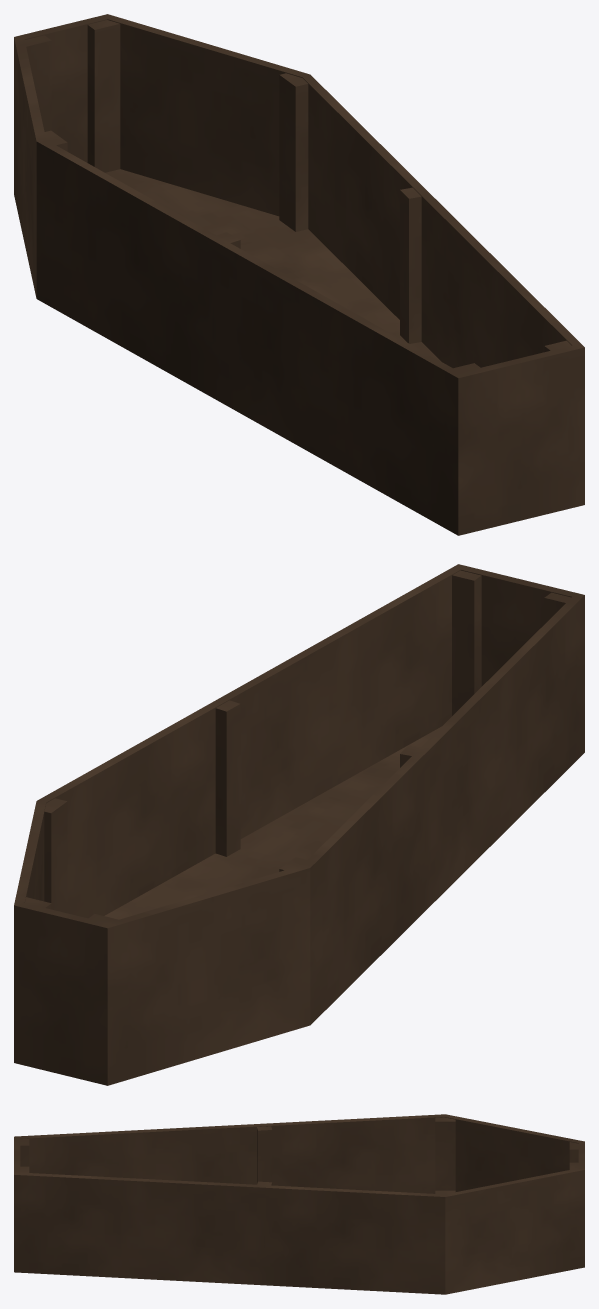
The model's file is coffin.glb.
3 renders of one model, top to bottom at view 1: azimuth 30°, elevation 25°; view 2: azimuth 150°, elevation 25°; view 3: azimuth 270°, elevation 25°, orthographic. The views are drawn at different scales.
Visible parts, largest first — view 1: coffin; view 2: coffin; view 3: coffin.
Part boxes in pixels (x1=…): coffin: x1=14, y1=14, x2=584, y2=535; coffin: x1=14, y1=564, x2=584, y2=1085; coffin: x1=14, y1=1114, x2=584, y2=1294.
Bounding box in the file's own units: 0.7221 × 0.4122 × 2.1.
Materials: 1 (1 with a texture image).
